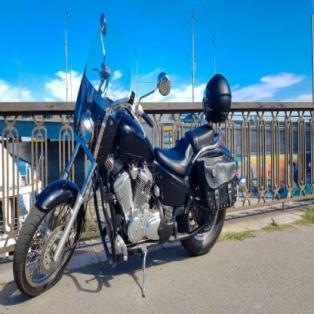Motocicleta: (8, 25, 238, 305)
